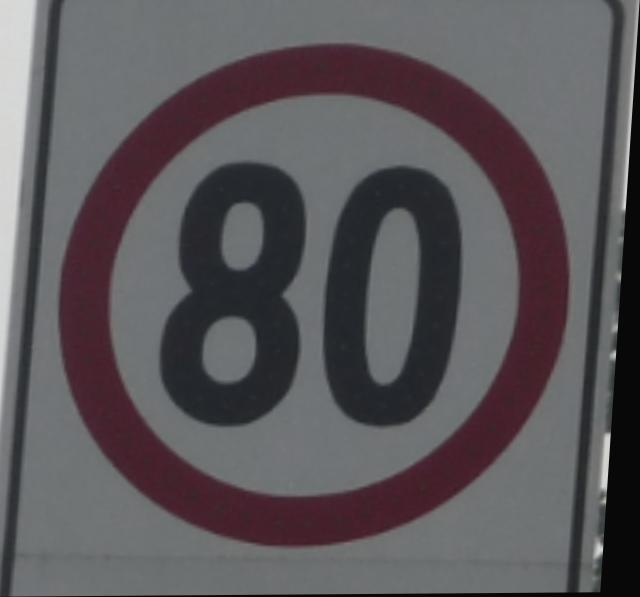limit80: (40, 33, 599, 556)
